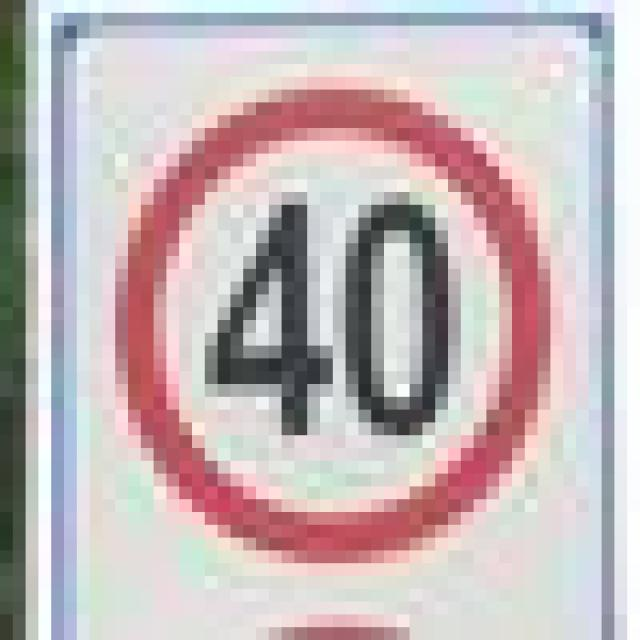falling_rocks: (115, 64, 525, 563)
